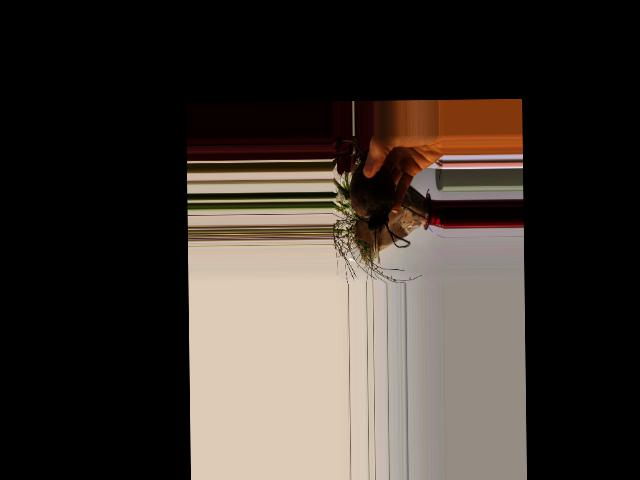beet: (342, 139, 410, 249)
